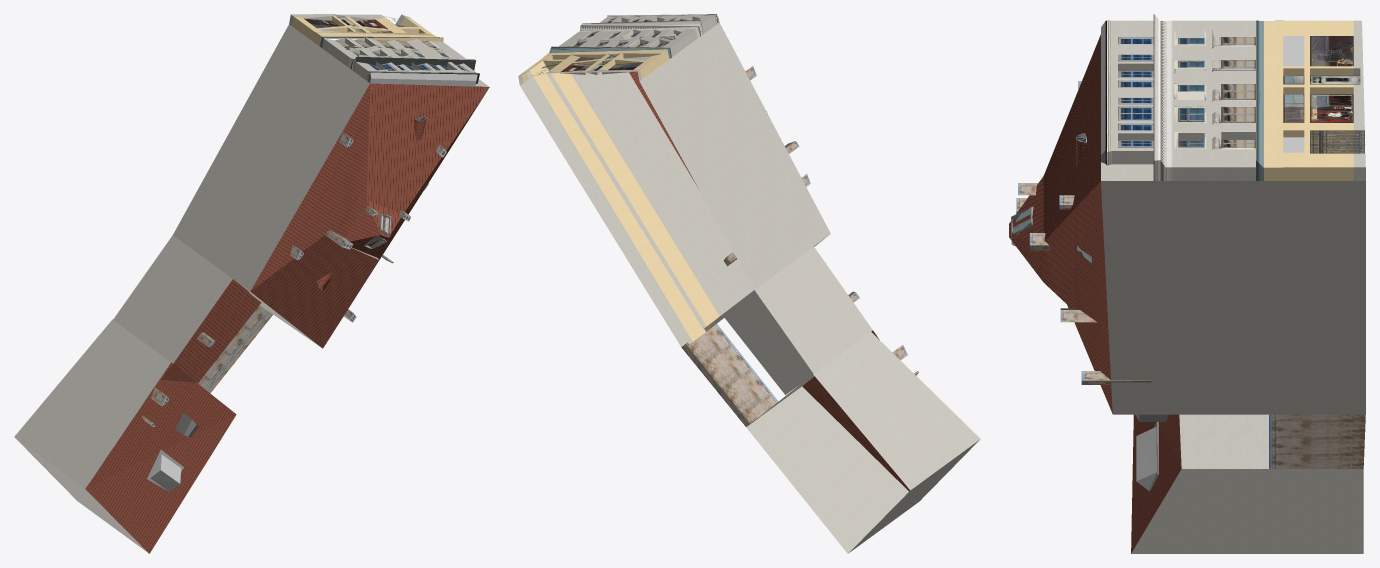
The model's file is Viru14-origo.obj.
3 renders of one model, left to right at view 1: azimuth 30°, elevation 25°; view 2: azimuth 150°, elevation 25°; view 3: azimuth 270°, elevation 25°, orthographic. The views are drawn at different scales.
Visible parts, largest first — view 1: STUCCO; view 2: STUCCO; view 3: STUCCO.
Boxes of the visible parts, x1,y1,x2,y2 form: STUCCO: [14, 14, 489, 553]; STUCCO: [518, 14, 980, 553]; STUCCO: [1009, 14, 1365, 553].
Bounding box in the file's own units: 44.38 × 47 × 21.46.
